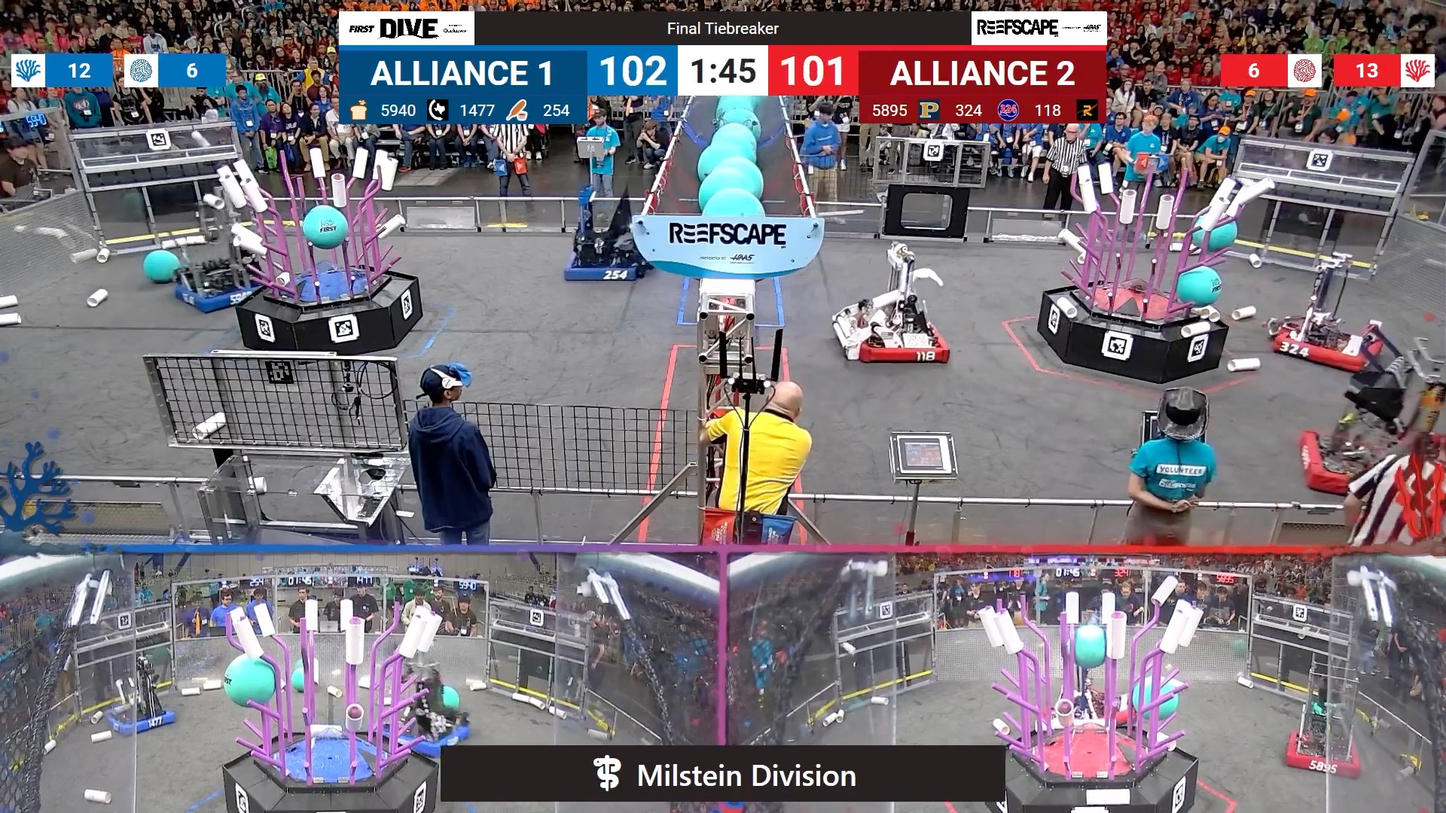bumpers: (1296, 426, 1420, 500), (1263, 317, 1390, 381), (843, 316, 958, 376), (1276, 728, 1367, 781), (562, 240, 658, 288), (370, 718, 475, 758), (167, 276, 268, 317), (97, 704, 181, 741)
